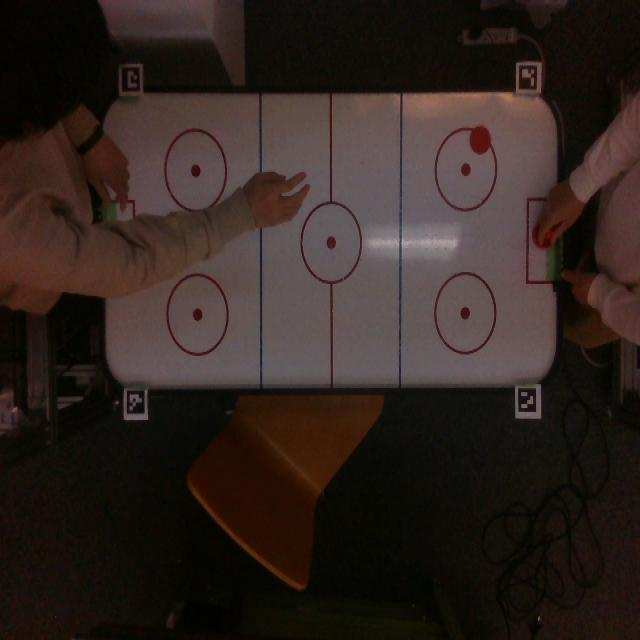puck: (468, 124, 494, 155)
